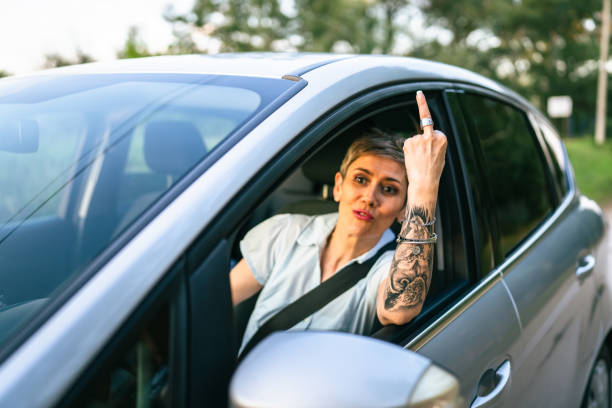insulting_gesture: (399, 89, 451, 188)
